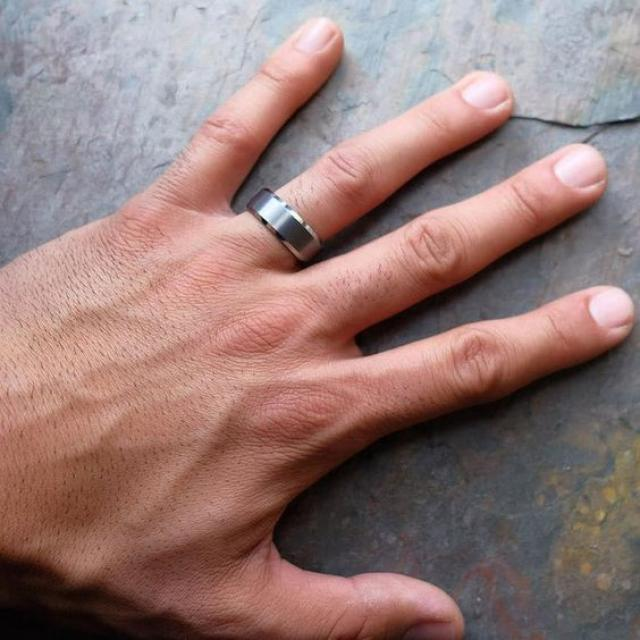Fingernail: (556, 147, 605, 188), (590, 289, 633, 329), (464, 74, 508, 108), (297, 20, 335, 52)
